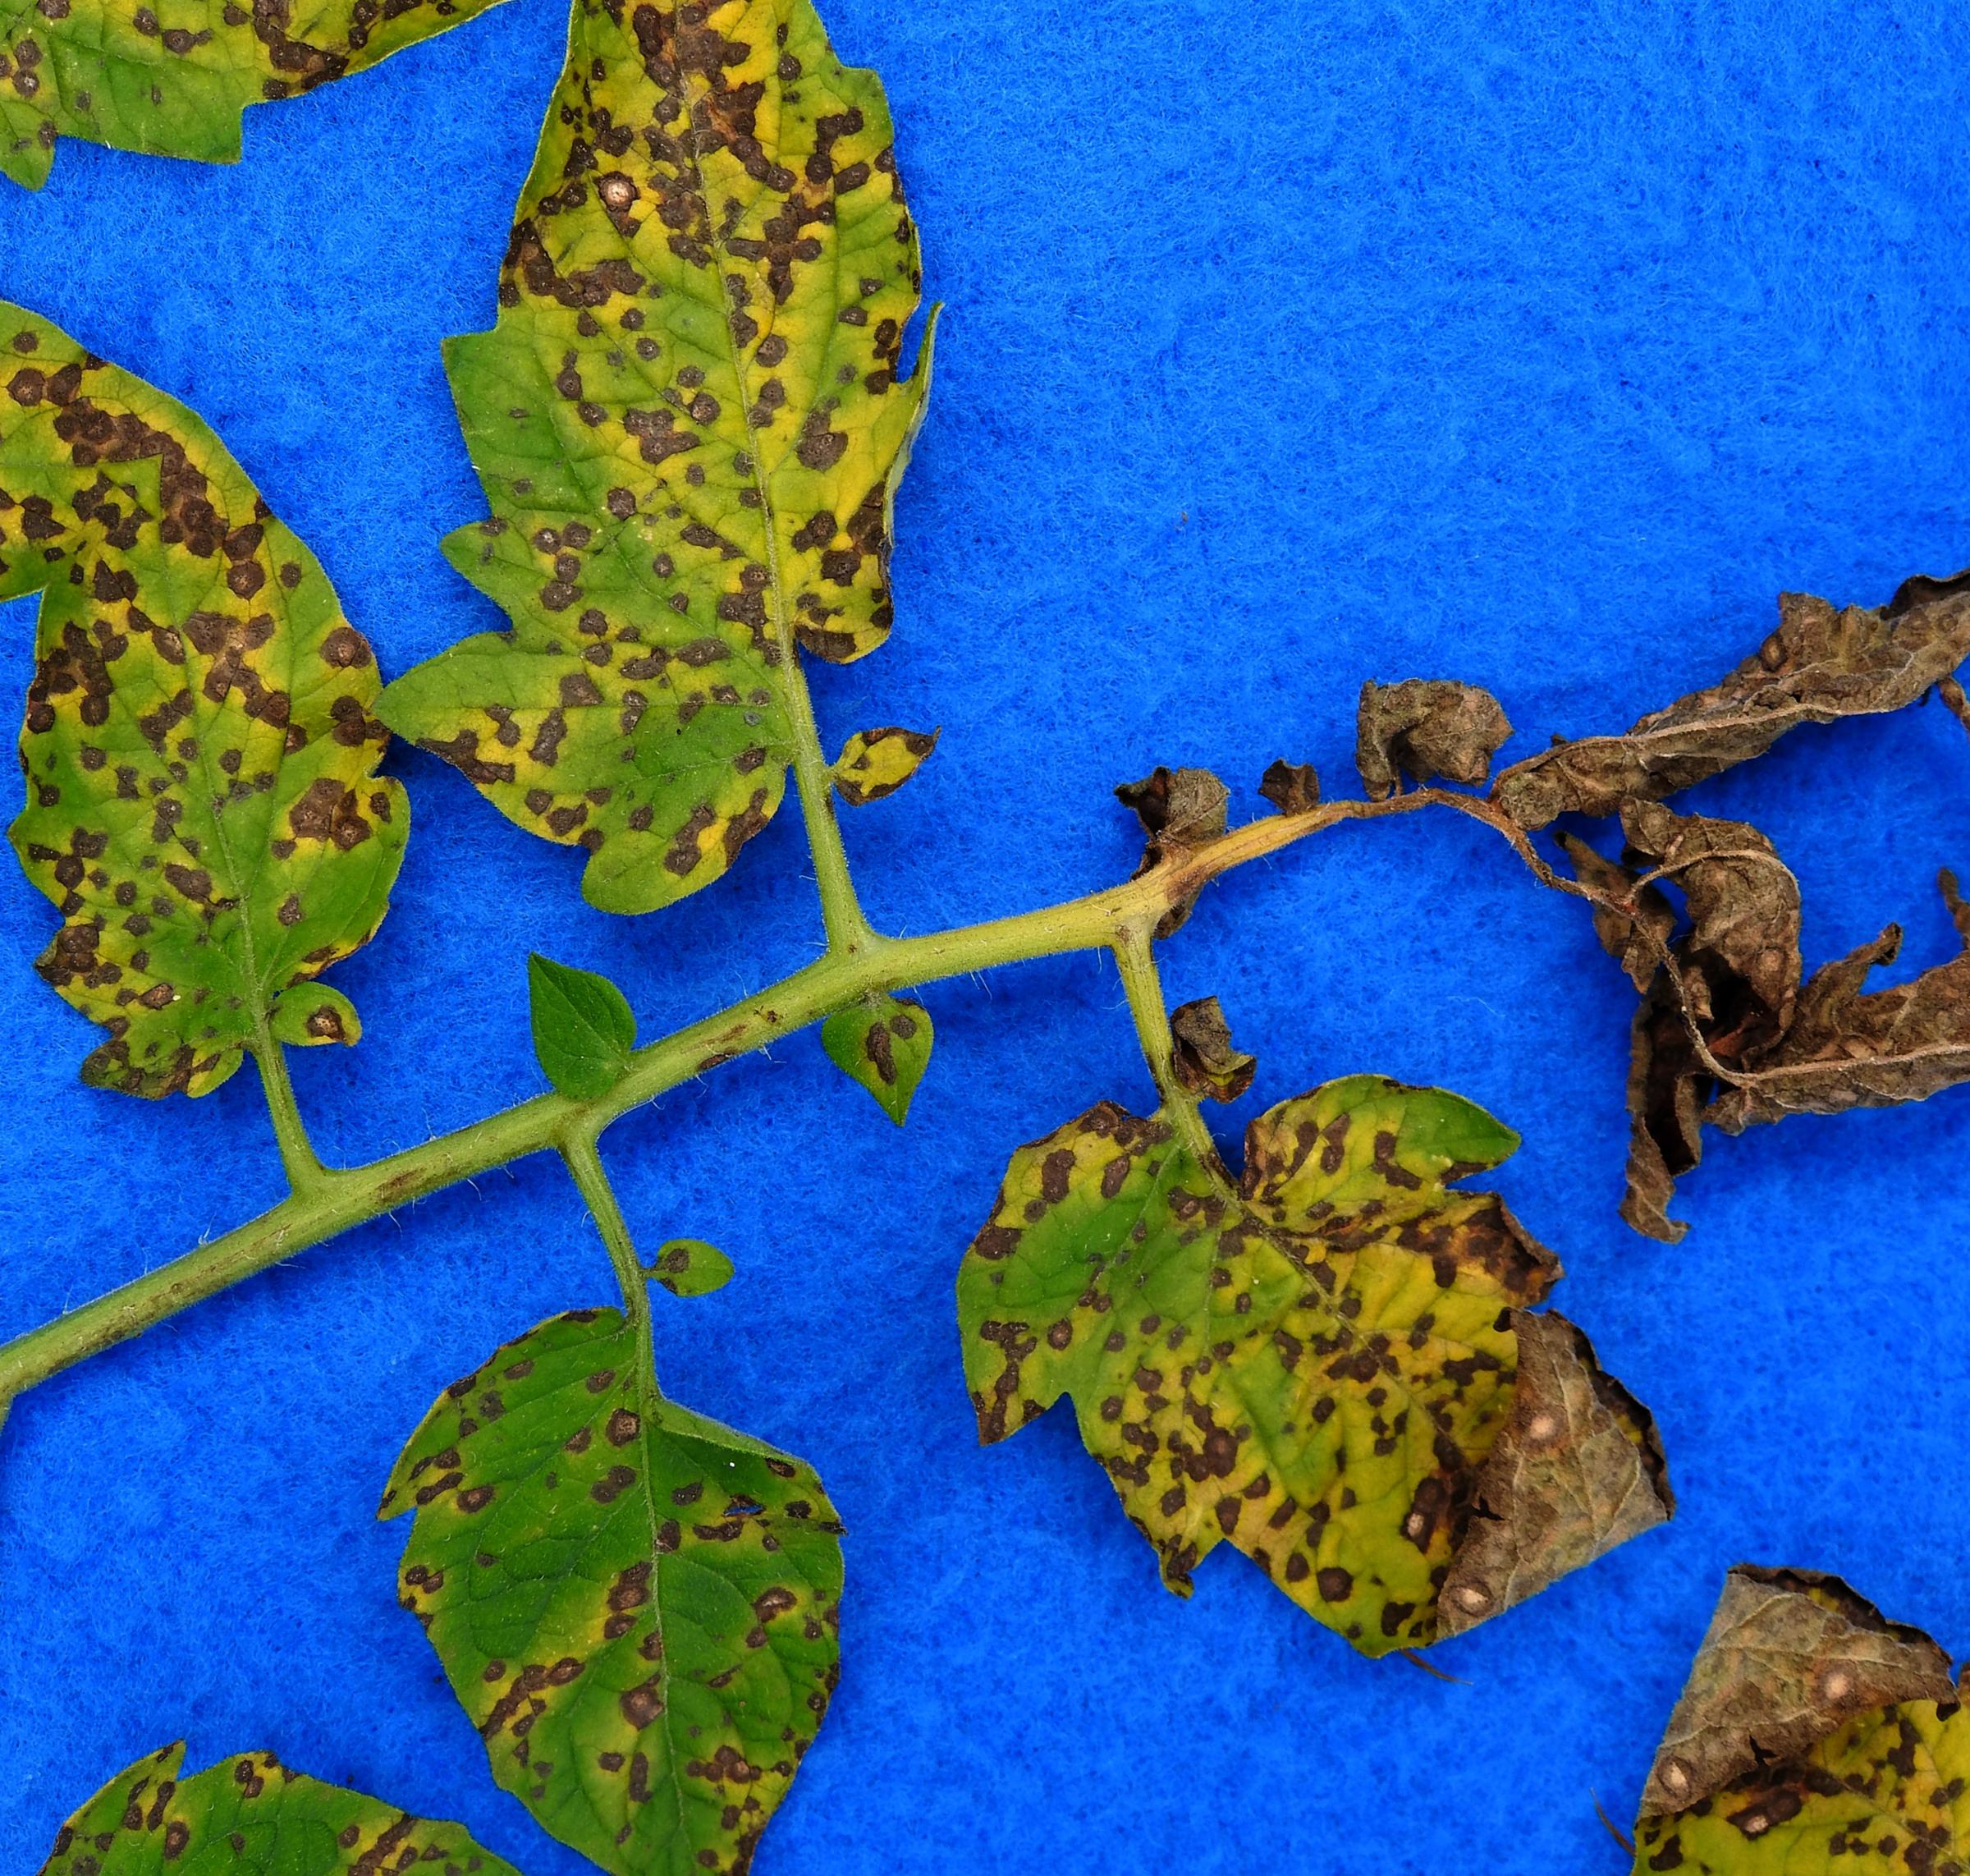Tomato Septoria leaf spot: (130, 0, 1326, 991), (864, 859, 1857, 1841), (209, 1184, 1080, 1876), (0, 417, 600, 1195)
